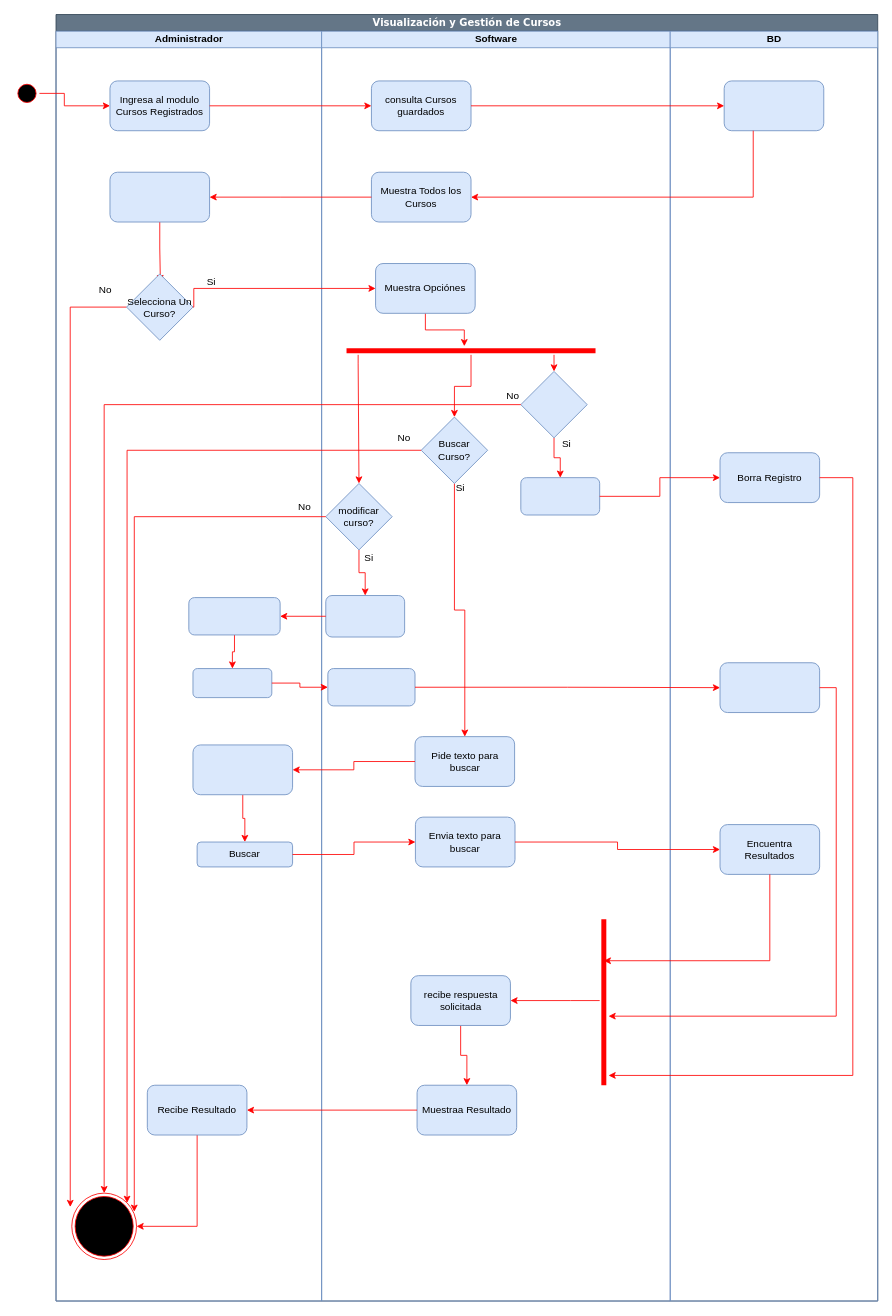
Some shapes in this 892 by 1316 pixel diagram are drawn without their labels. Here are the shapes that lost their labels. From the top down, the centre of each, then its label:
At (773,105): "Recibe consulta y envia lista".
At (159,196): "Visualiza cursos".
At (553,404): "Eliminara Curso?".
At (560,496): "Manda instruccion de borrar".
At (234,616): "Escribe datos nuevos".
At (365,616): "Pide Datos a Cambiar".
At (232,683): "Envia".
At (371,687): "Se envia para guardar".
At (769,687): "Guarda Cambios".
At (242,769): "Ingresa Texto".
